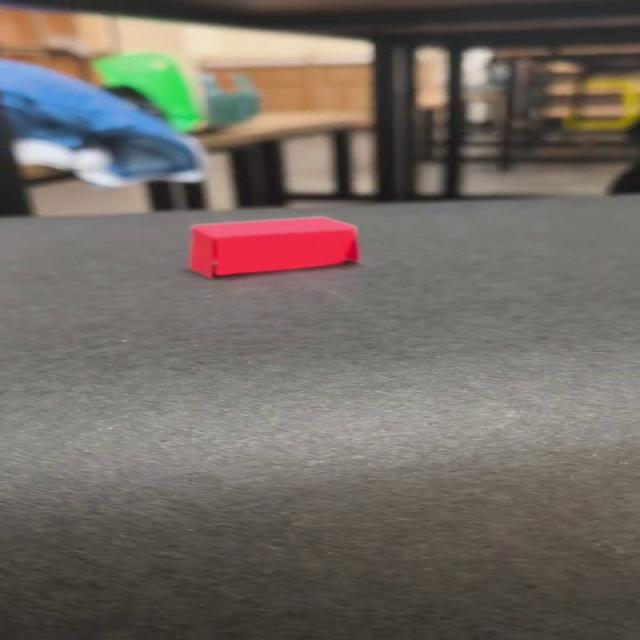red block: (188, 215, 360, 278)
